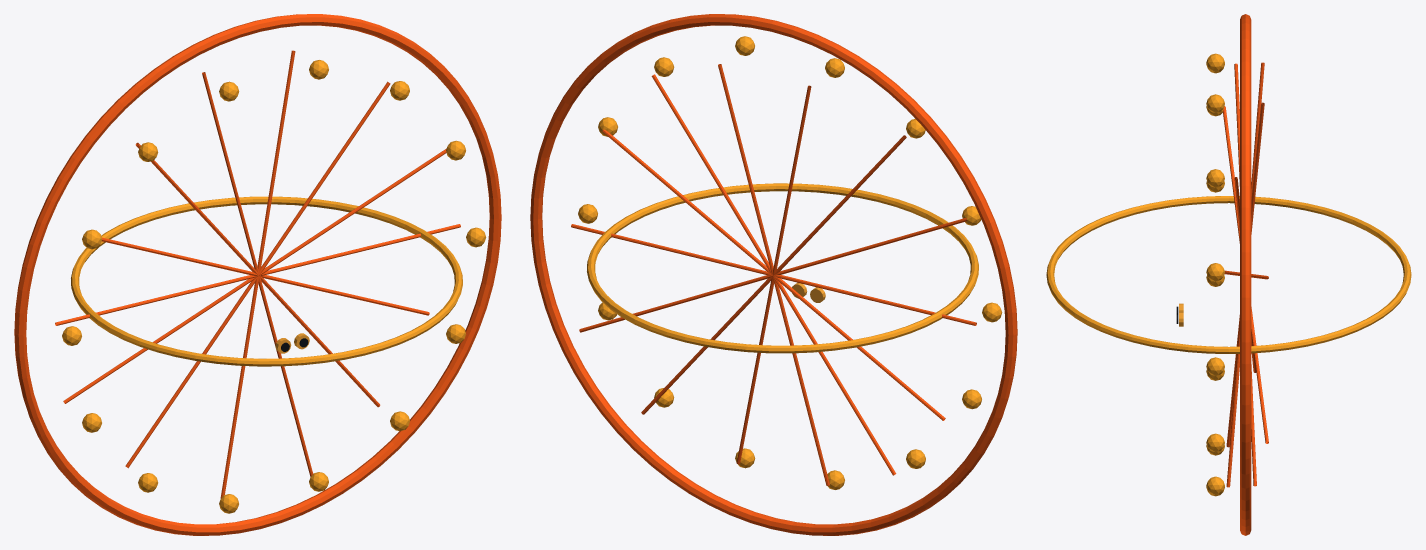
The model's file is 83_L89_SolarStorm3DParticleHologram.fbx.
3 views of the same model, side by side, from view 1: azimuth 30°, elevation 25°; view 2: azimuth 150°, elevation 25°; view 3: azimuth 270°, elevation 25° (orthographic). The views are drawn at different scales.
Visible parts, largest first — view 1: L87_SolarStorm3DParticleHologram_Part_0000, L87_SolarStorm3DParticleHologram_Part_0001; view 2: L87_SolarStorm3DParticleHologram_Part_0000, L87_SolarStorm3DParticleHologram_Part_0001; view 3: L87_SolarStorm3DParticleHologram_Part_0000, L87_SolarStorm3DParticleHologram_Part_0001.
Part boxes in pixels (x1,y1,x2,y2): L87_SolarStorm3DParticleHologram_Part_0000: (14, 14, 501, 535); L87_SolarStorm3DParticleHologram_Part_0001: (62, 60, 486, 513); L87_SolarStorm3DParticleHologram_Part_0000: (530, 14, 1017, 535); L87_SolarStorm3DParticleHologram_Part_0001: (578, 36, 1002, 489); L87_SolarStorm3DParticleHologram_Part_0000: (1223, 14, 1268, 535); L87_SolarStorm3DParticleHologram_Part_0001: (1046, 53, 1411, 496).
Bounding box in the file's own units: 470 × 470 × 329.
